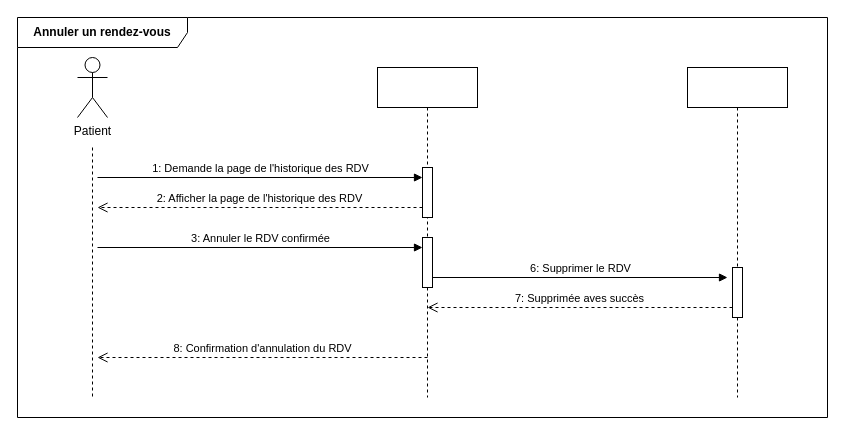
Some shapes in this 845 by 435 pixel diagram are drawn without their labels. The centre of each missing label's shape, as x and y in pixels:
"SGBD" goes at (x=737, y=232).
"Système" goes at (x=427, y=232).
